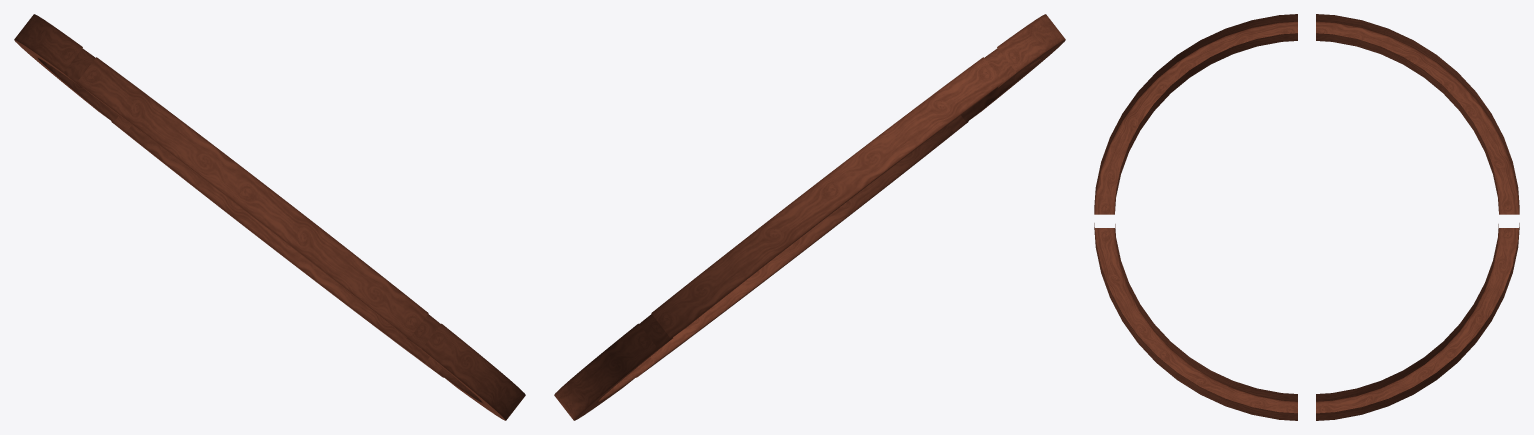
File: World_BeamCircle.fbx
The picture shows the model from 3 angles, left to right: view 1: azimuth 30°, elevation 25°; view 2: azimuth 150°, elevation 25°; view 3: azimuth 270°, elevation 25°; orthographic projection. The views are drawn at different scales.
Parts seen in each view (by area): view 1: World_BeamCircle; view 2: World_BeamCircle; view 3: World_BeamCircle.
Part boxes in pixels (<box>): World_BeamCircle: <box>14,14,525,420</box>; World_BeamCircle: <box>554,14,1065,420</box>; World_BeamCircle: <box>1094,14,1519,420</box>.
Size of the model in its own units: 2.05 by 2.05 by 2.76.
